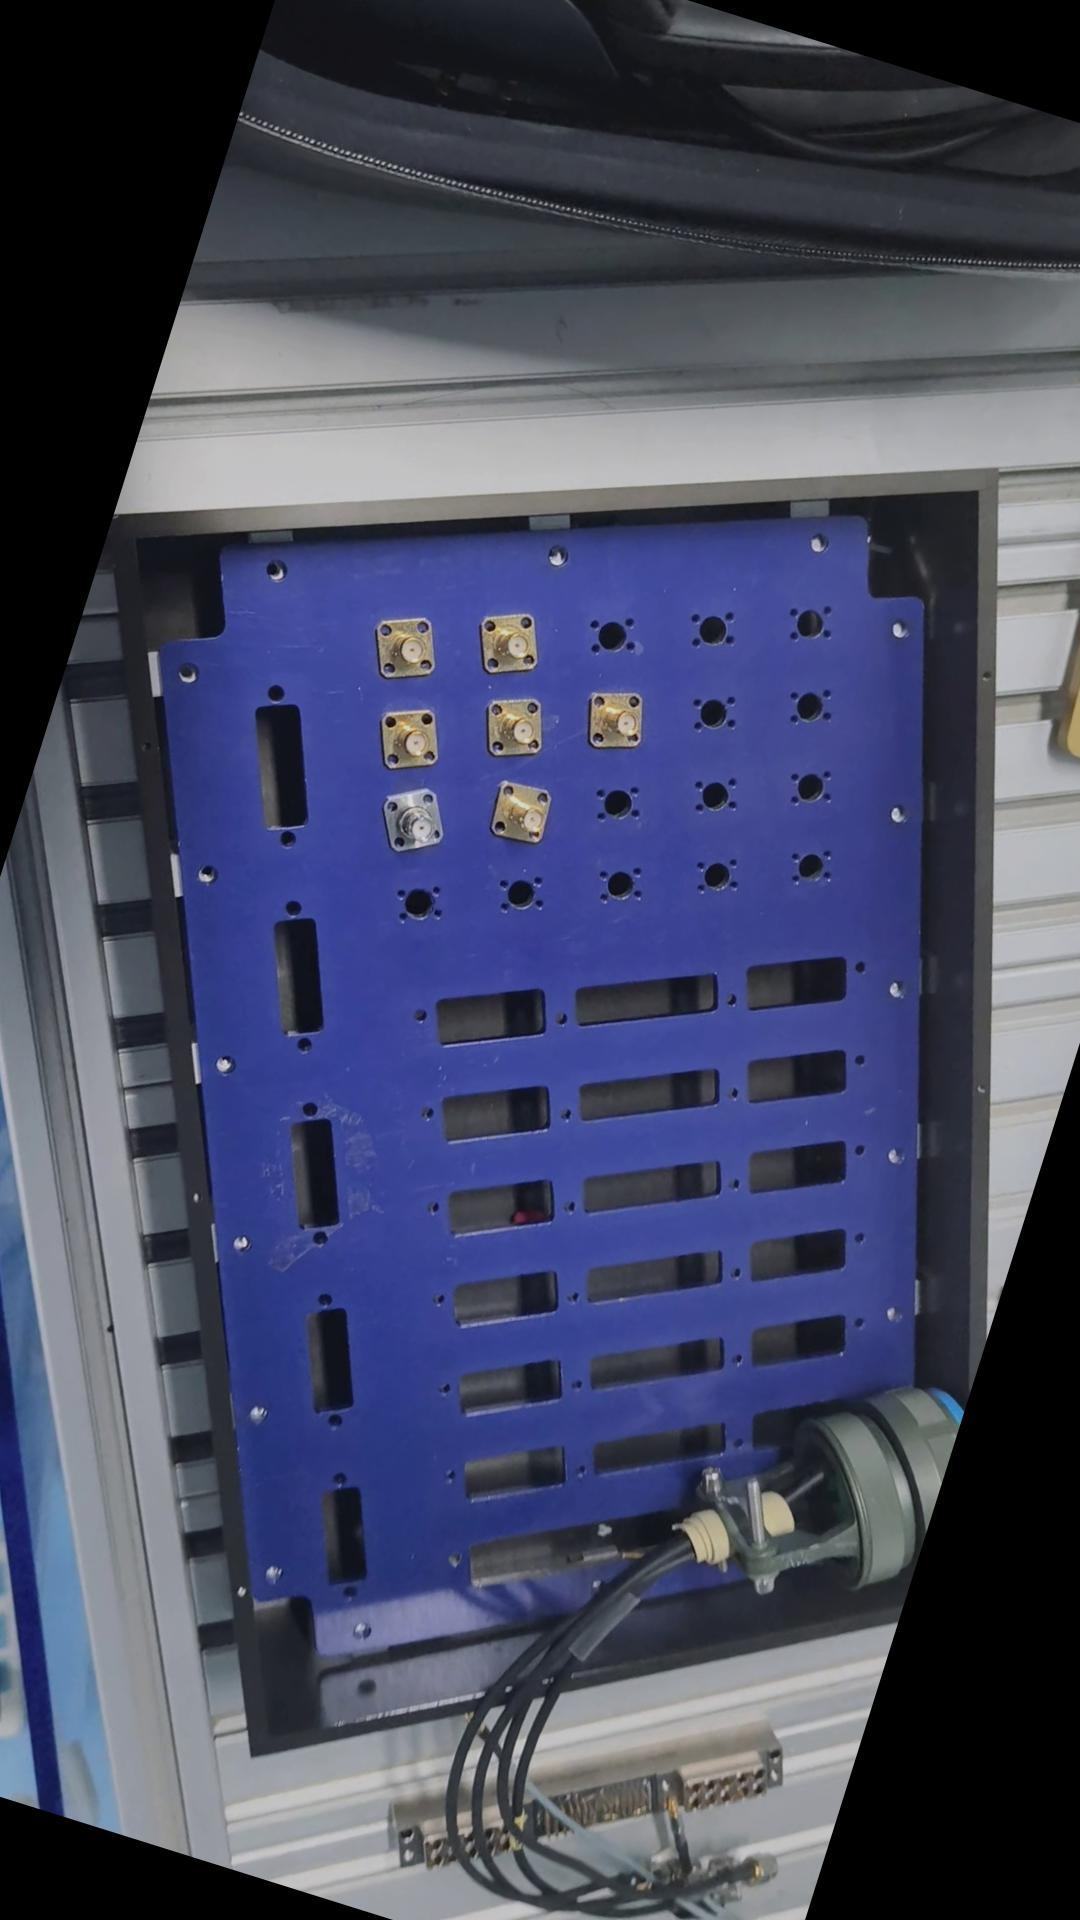SMA: (468, 596, 556, 688), (378, 775, 464, 864), (469, 682, 558, 764), (367, 607, 450, 688), (372, 703, 454, 782), (580, 680, 658, 764), (487, 781, 563, 851)
